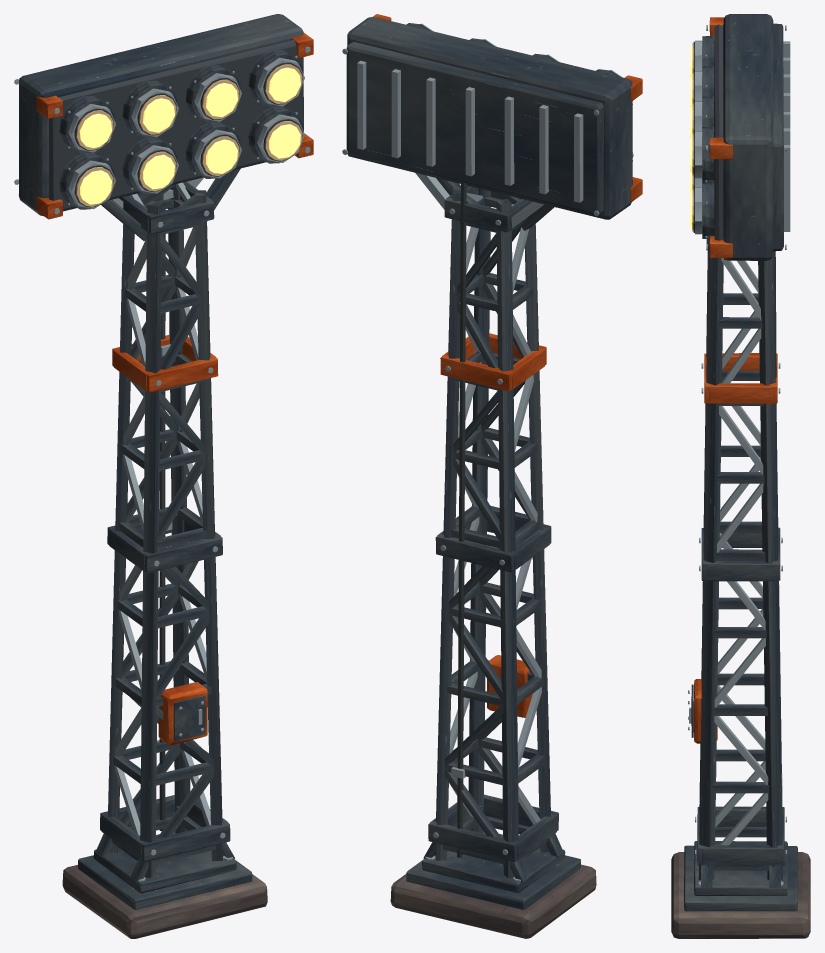
The model's file is wsc-module-024-floodlight-tower-far.glb.
3 views of the same model, side by side, from view 1: azimuth 30°, elevation 25°; view 2: azimuth 150°, elevation 25°; view 3: azimuth 270°, elevation 25° (orthographic).
Parts seen in each view (by area): view 1: Floodlight tower | far; view 2: Floodlight tower | far; view 3: Floodlight tower | far.
Boxes of the visible parts, bbox=[...] form: Floodlight tower | far: bbox=[14, 14, 313, 938]; Floodlight tower | far: bbox=[342, 14, 642, 938]; Floodlight tower | far: bbox=[671, 14, 810, 938].
Bounding box in the file's own units: 2.93 × 8.9 × 1.35.
8 materials, 3 textured.
